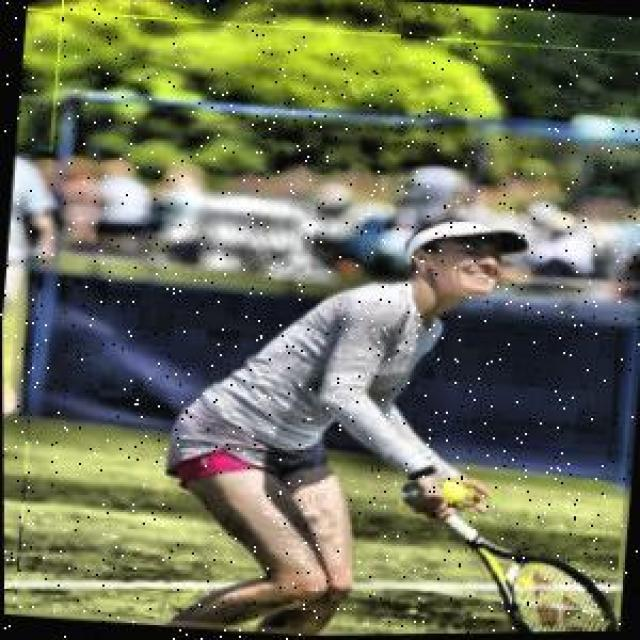tennis-ball: (438, 476, 475, 512)
